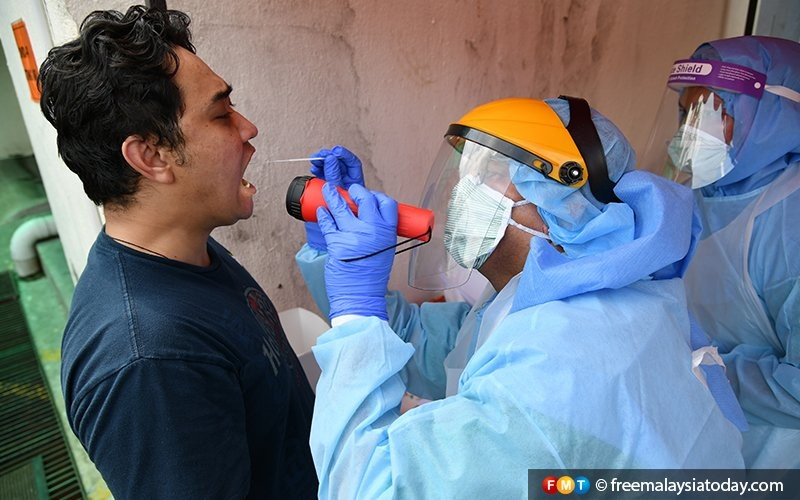Coverall: (305, 206, 743, 500), (652, 34, 800, 467)
Face_Shield: (654, 55, 768, 201)
Gloves: (317, 179, 395, 325), (302, 136, 373, 268)
face_shield: (424, 98, 587, 282)
with_mask: (437, 163, 521, 272), (671, 87, 727, 192)
without_mask: (182, 77, 265, 229)
